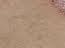plaque psoriasis: (49, 0, 65, 24)
